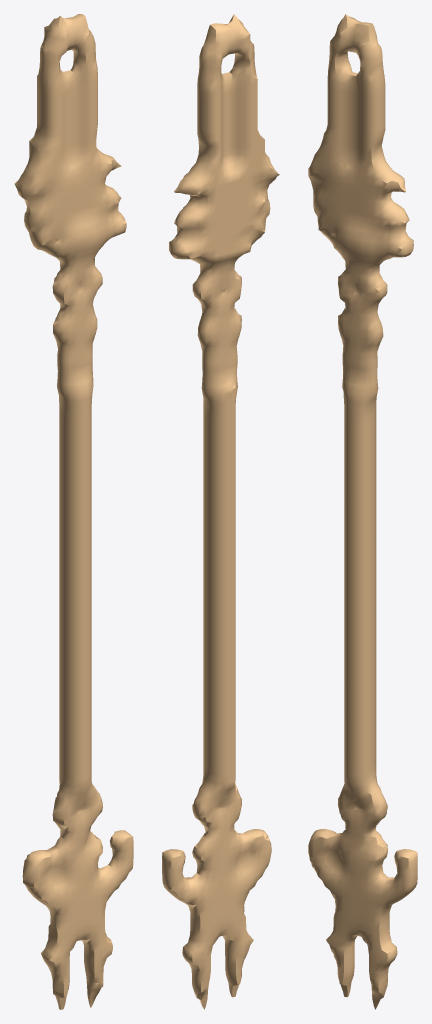
3 renders of one model, left to right at view 1: azimuth 30°, elevation 25°; view 2: azimuth 210°, elevation 25°; view 3: azimuth 330°, elevation 25°, orthographic.
Parts seen in each view (by area): view 1: Object_2; view 2: Object_2; view 3: Object_2.
Boxes of the visible parts, x1,y1,x2,y2 form: Object_2: [14, 14, 133, 1009]; Object_2: [162, 14, 279, 1009]; Object_2: [308, 14, 417, 1009].
Bounding box in the file's own units: 0.1131 × 1 × 0.0312.
